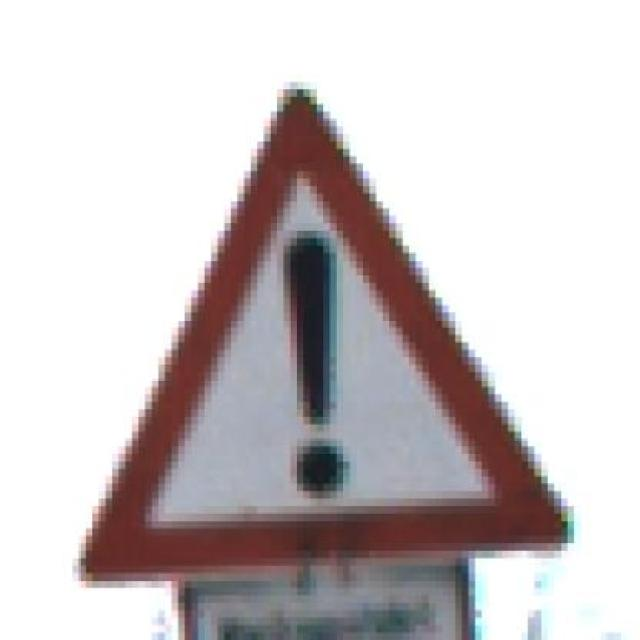Attention Please-: (46, 51, 594, 588)
